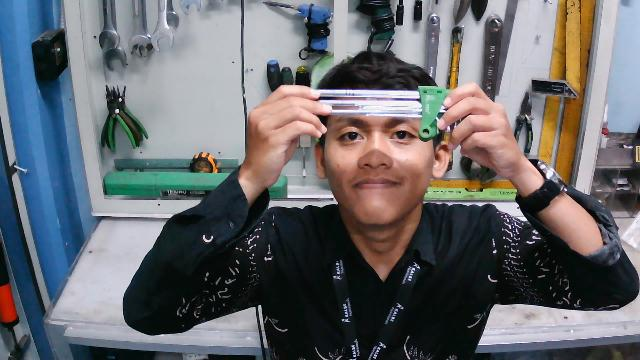kunci_l_bintang: (277, 77, 463, 144)
